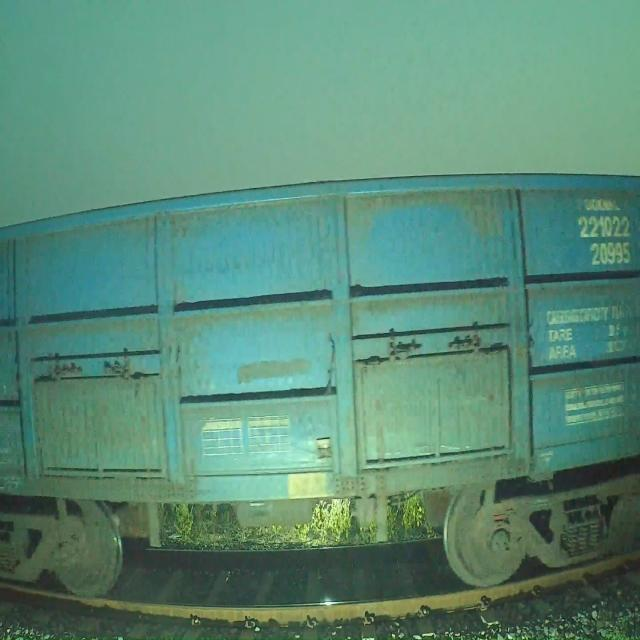WAgon-uic: (0, 171, 640, 599)
uic: (575, 212, 632, 268)
